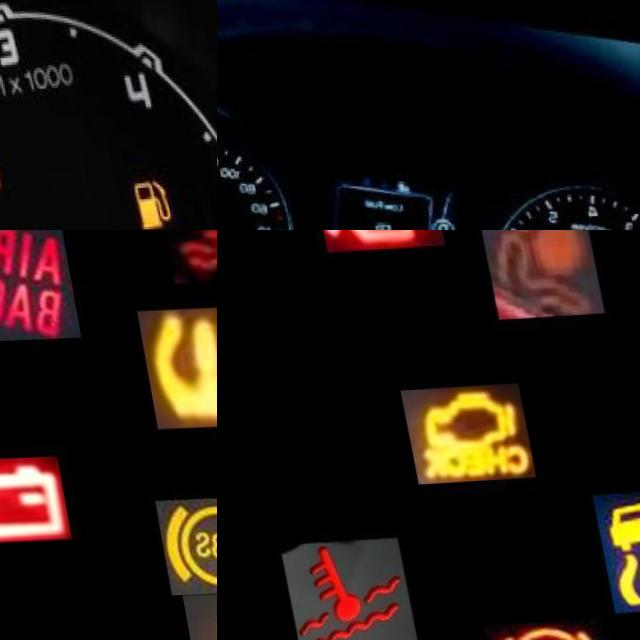Central Warning lamp: (165, 595, 217, 640)
Engine cooling system: (266, 538, 401, 640), (156, 230, 217, 288)
